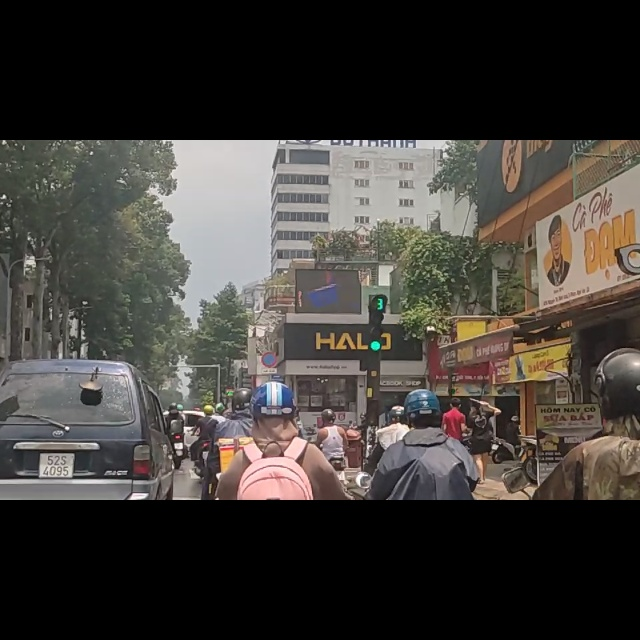bien_cam: (262, 375, 277, 403)
